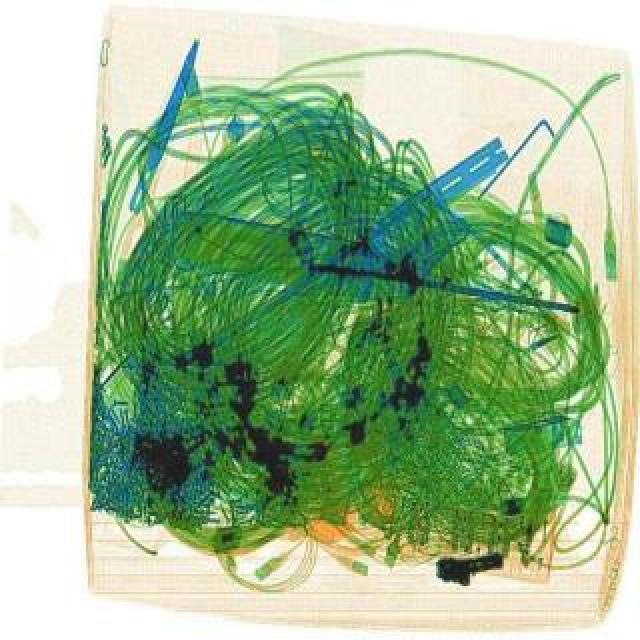gun: (436, 546, 510, 586)
